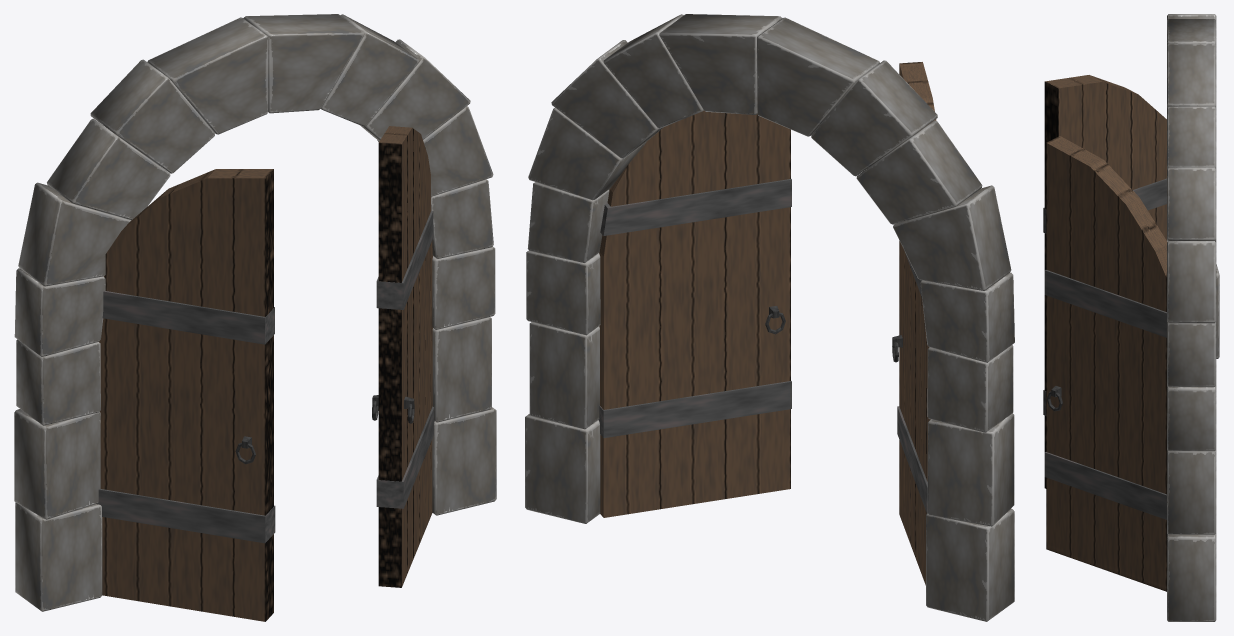
File: door.fbx
3 renders of one model, left to right at view 1: azimuth 30°, elevation 25°; view 2: azimuth 150°, elevation 25°; view 3: azimuth 270°, elevation 25°, orthographic. The views are drawn at different scales.
Visible parts, largest first — view 1: Pota_1.002, Door_3.001, Door_3; view 2: Pota_1.002, Door_3, Door_3.001; view 3: Door_3, Pota_1.002, Door_3.001.
Part boxes in pixels (x1,y1,x2,y2): Pota_1.002: [14, 14, 496, 611]; Door_3.001: [97, 169, 275, 621]; Door_3: [372, 126, 434, 587]; Pota_1.002: [525, 14, 1014, 621]; Door_3: [598, 110, 791, 517]; Door_3.001: [892, 62, 936, 585]; Door_3: [1044, 136, 1167, 591]; Pota_1.002: [1167, 14, 1219, 621]; Door_3.001: [1043, 75, 1166, 488].
Bounding box in the file's own units: 453 × 492 × 165.
1 material, 1 textured.
